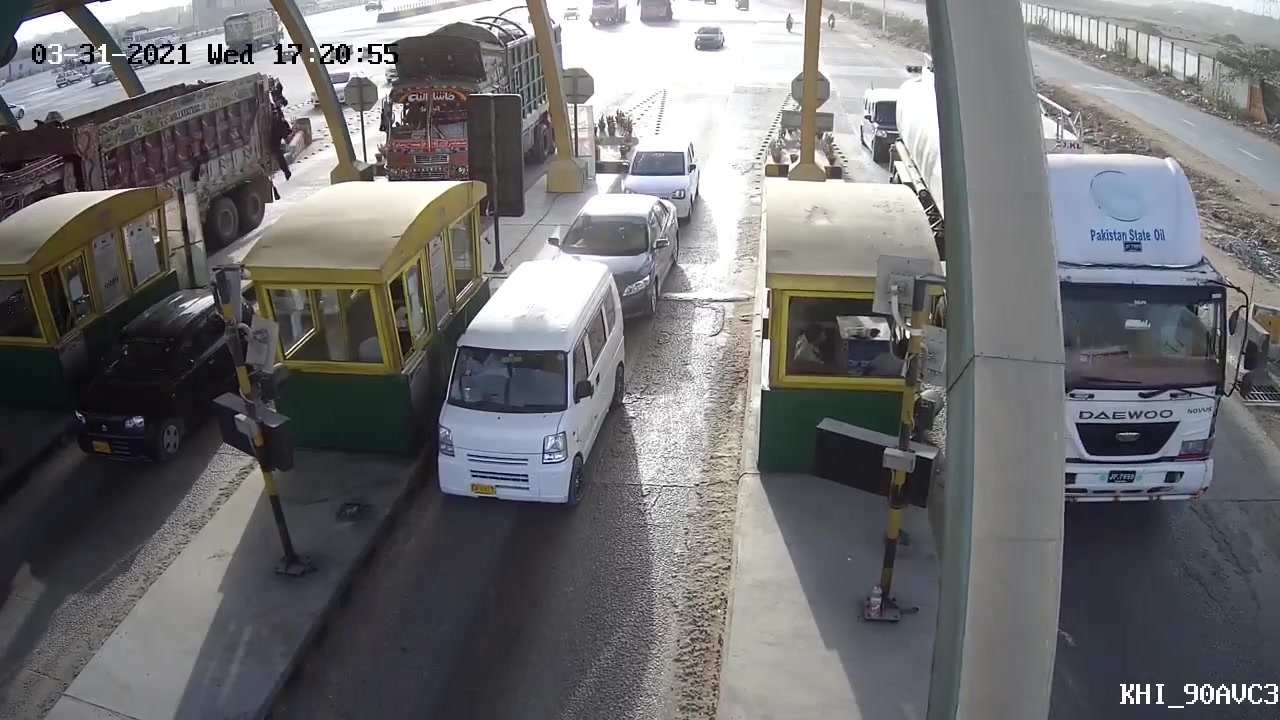F1: (419, 258, 636, 511)
F6: (421, 260, 638, 513)
